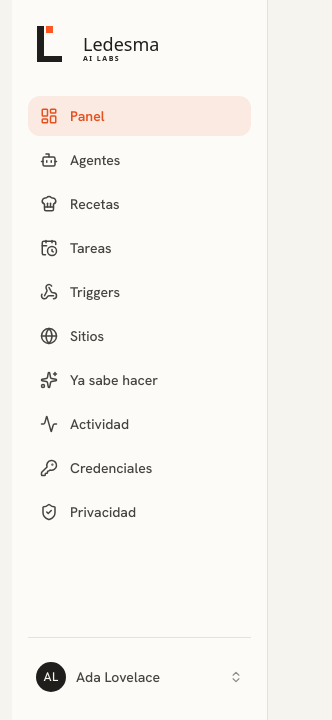
Test: UserMenu (menu de usuario del footer del sidebar) › Mejorar Plan navega a /configuracion/paquetes y cierra el menu
Click the button "AL Ada Lovelace" at (140, 677), box 28,654 -> 251,700
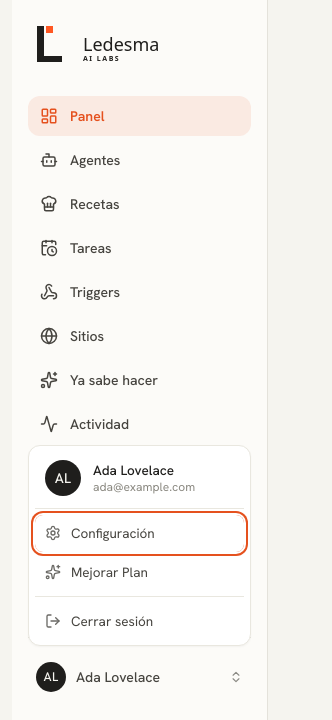
Click the menu item "Mejorar Plan" at (140, 572), box 35,554 -> 244,590
(page scrolled)
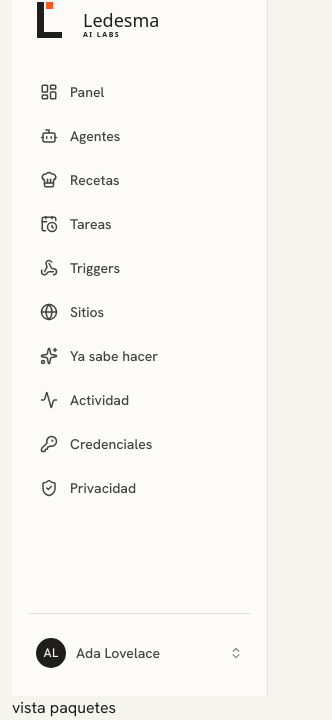
Expected: the menu is gone
Expected: the text "vista paquetes" is shown, 12,697 -> 116,718
